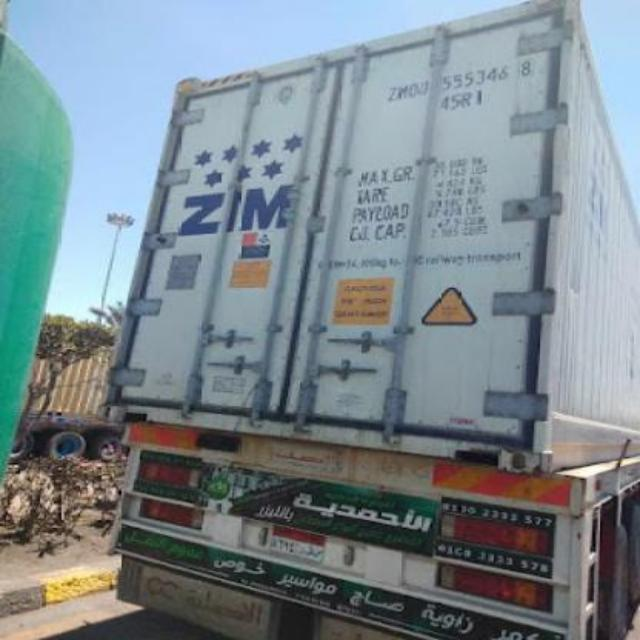3: (476, 67, 488, 85)
4: (486, 66, 499, 80)
5: (464, 69, 476, 87), (452, 72, 464, 88), (442, 74, 452, 90)
6: (498, 63, 508, 81)
8: (518, 60, 532, 76)
M: (398, 84, 408, 98)
O: (410, 81, 418, 97)
U: (418, 80, 430, 94)
Z: (384, 84, 398, 102)
